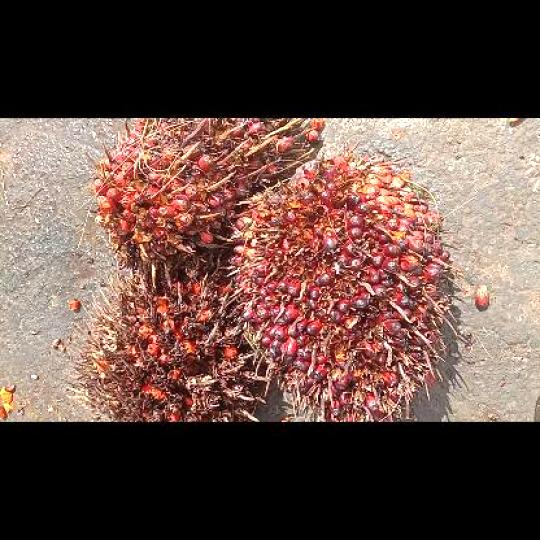masak: (225, 145, 455, 420), (84, 118, 316, 287)
terlalu masak: (63, 260, 267, 420)
